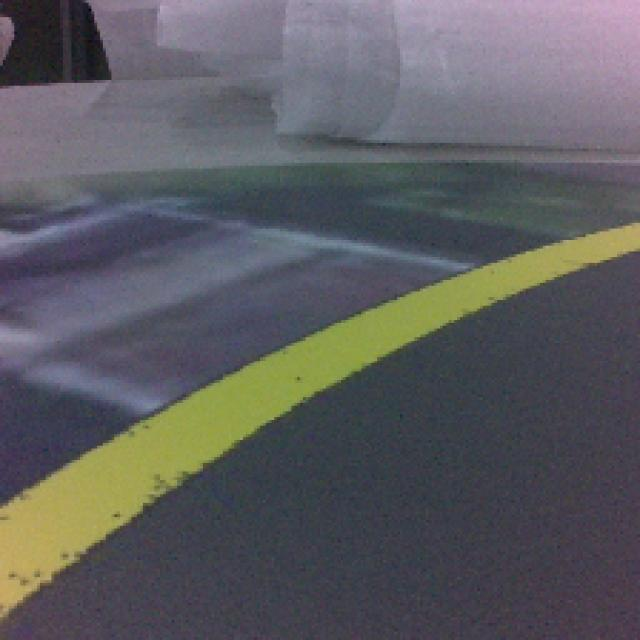Guard rail: (0, 223, 640, 629)
